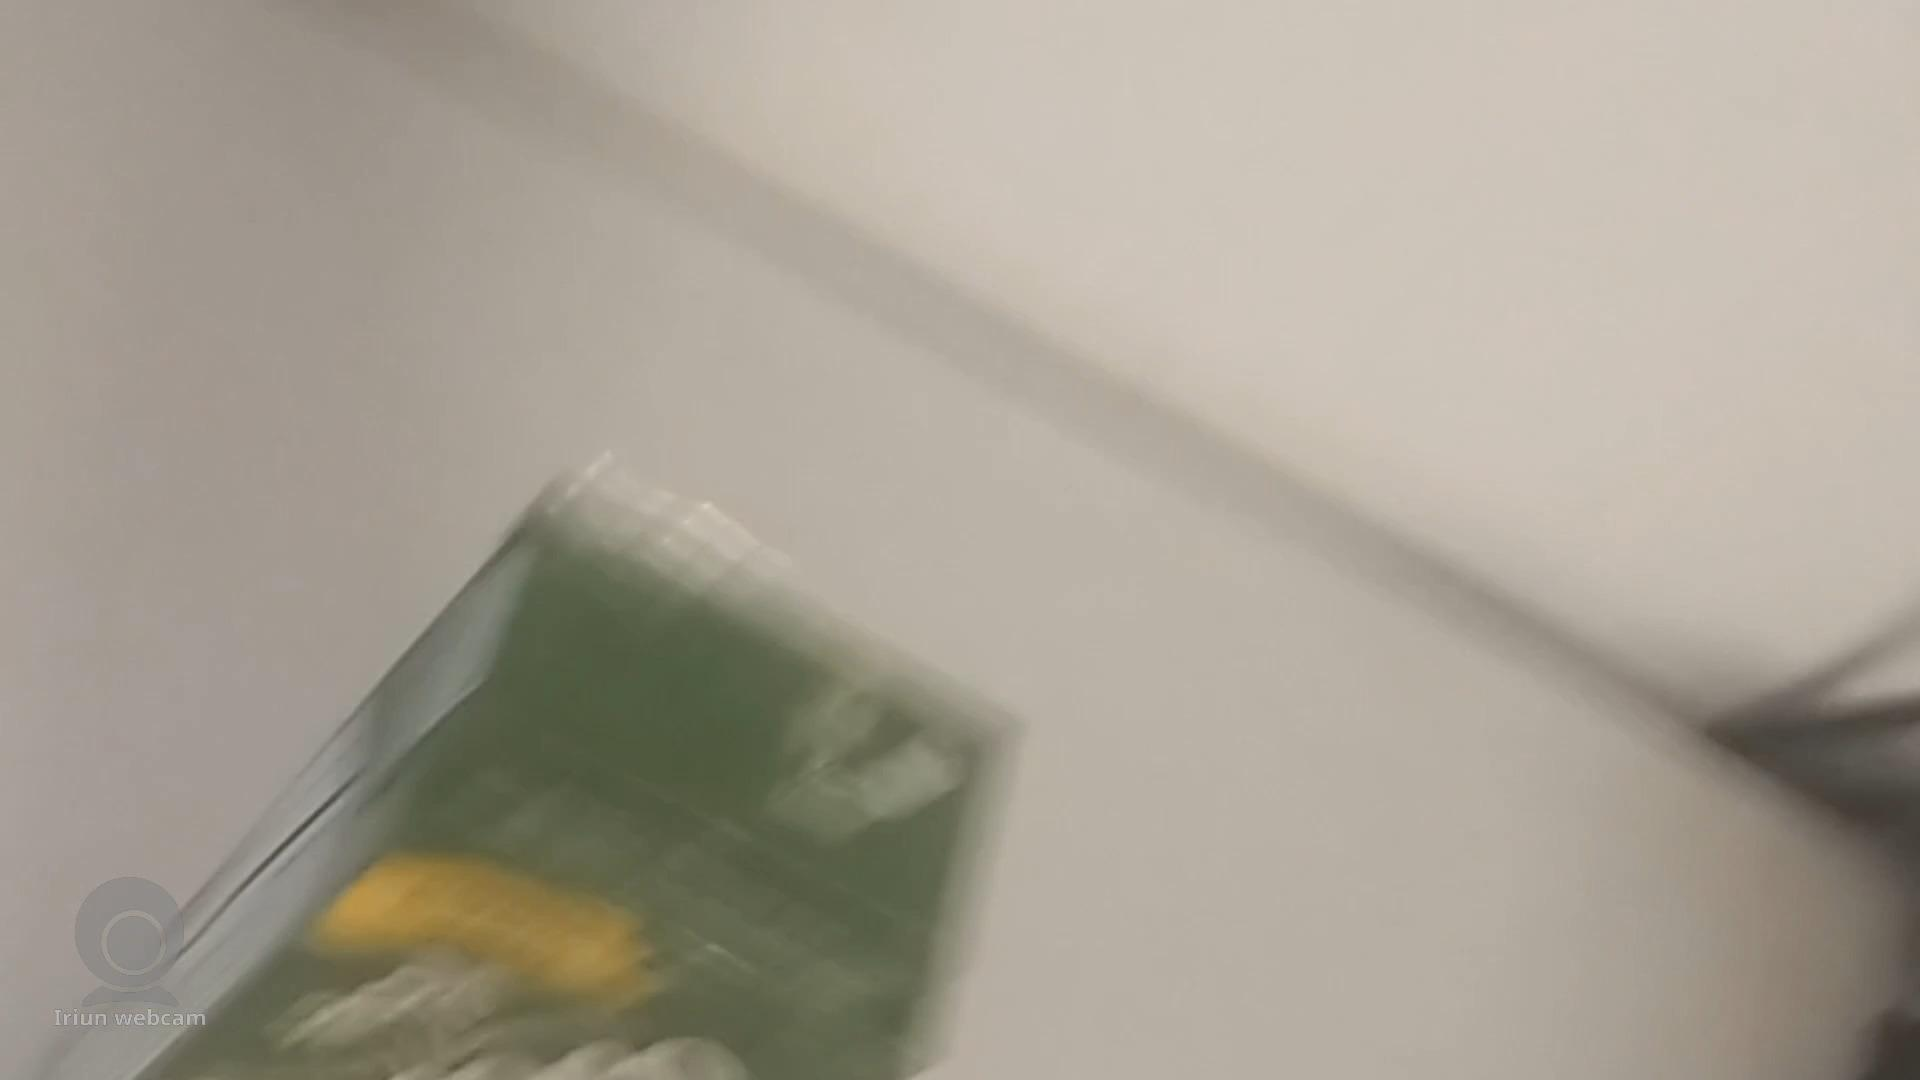coco: (47, 491, 1052, 1080)
